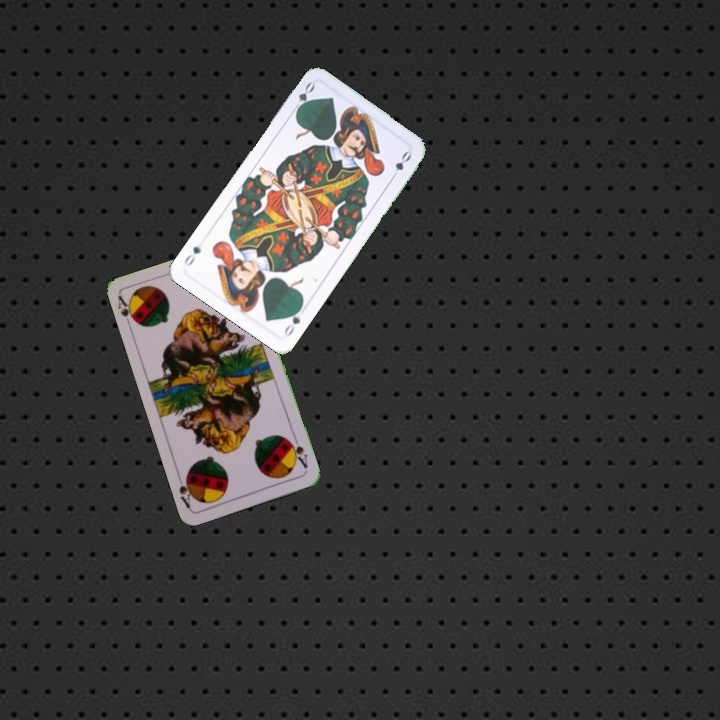GO: (288, 78, 317, 117), (280, 302, 305, 339)
SA: (114, 292, 141, 331), (285, 433, 311, 471)
